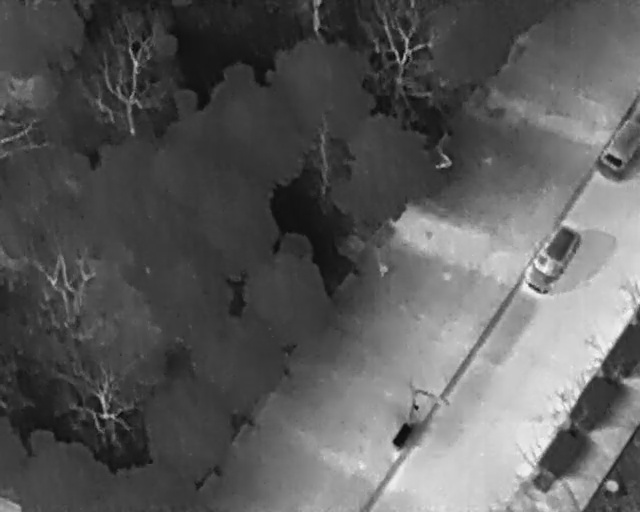Car: (517, 216, 589, 300), (594, 116, 639, 180)
